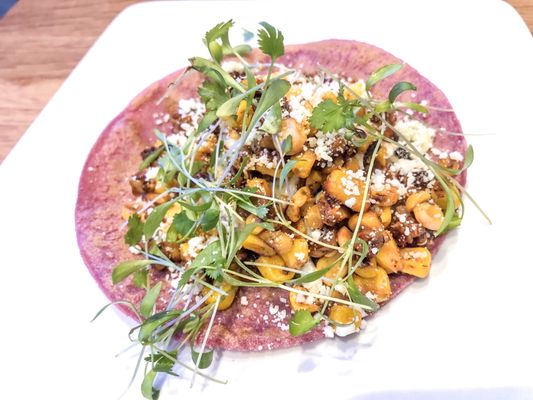curry: (2, 0, 531, 400)
sandwich: (73, 18, 477, 375)
